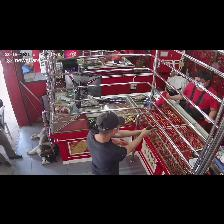person: (87, 113, 151, 174), (184, 83, 217, 119), (0, 131, 22, 159)
